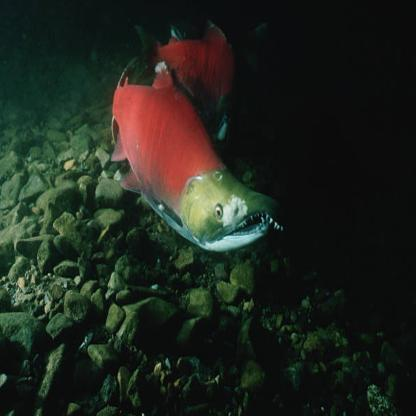sockeye: (110, 71, 286, 258)
